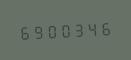four: (87, 18, 100, 38)
nine: (31, 21, 44, 41)
six: (17, 22, 30, 41), (101, 18, 114, 37)
three: (73, 19, 86, 38)
zero: (45, 21, 58, 40), (59, 20, 72, 39)
